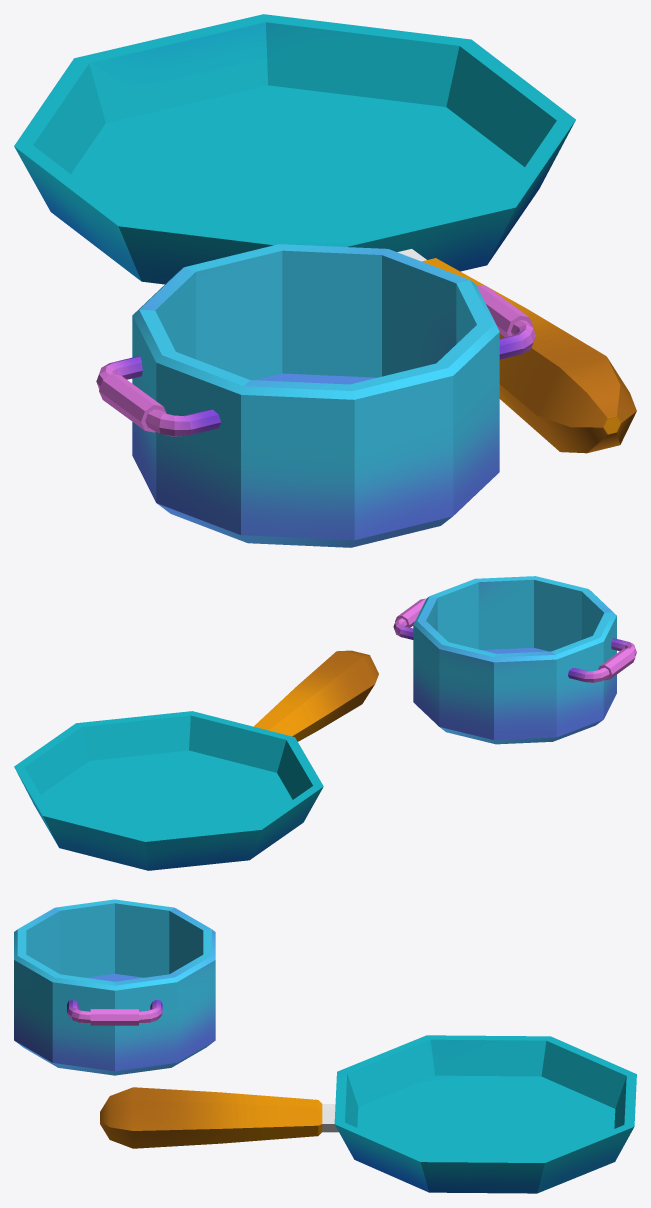
The model's file is guo.fbx.
3 views of the same model, one above another, from view 1: azimuth 30°, elevation 25°; view 2: azimuth 150°, elevation 25°; view 3: azimuth 270°, elevation 25° (orthographic). The views are drawn at different scales.
Visible parts, largest first — view 1: guo, guo_2, bing; view 2: guo, guo_2, bing; view 3: guo, guo_2, bing.
Boxes of the visible parts, x1,y1,x2,y2 form: guo: (14, 14, 575, 284); guo_2: (96, 244, 535, 547); bing: (397, 249, 636, 453); guo: (14, 711, 323, 870); guo_2: (393, 576, 636, 744); bing: (254, 650, 378, 741); guo: (334, 1035, 636, 1193); guo_2: (14, 899, 215, 1075); bing: (100, 1087, 338, 1148).
Bounding box in the file's own units: 1244 × 343 × 1609.
2 materials, 2 textured.
